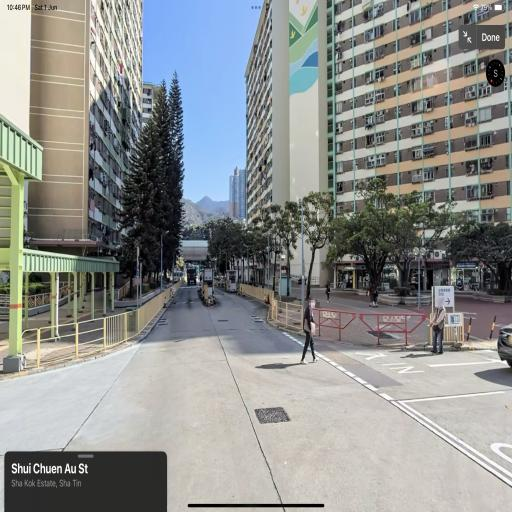Roads: (24, 268, 505, 494)
Trees: (235, 188, 442, 301), (109, 57, 190, 298)
